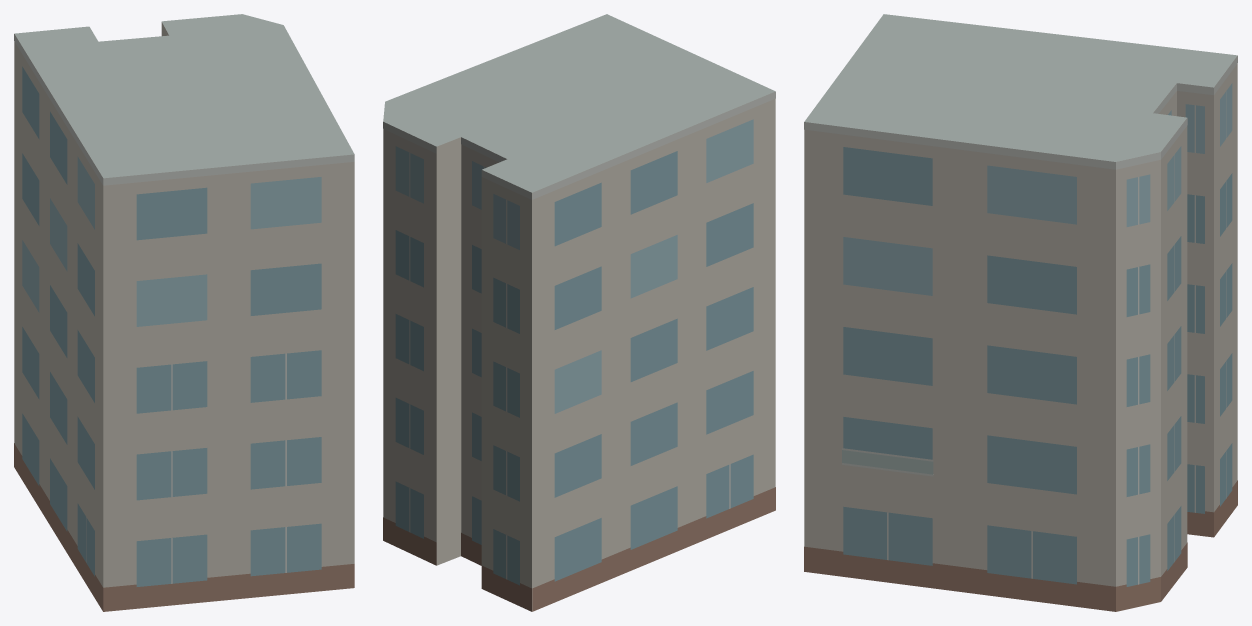
The model's file is survey-upis-32953901.glb.
The picture shows the model from 3 angles, left to right: view 1: azimuth 30°, elevation 25°; view 2: azimuth 150°, elevation 25°; view 3: azimuth 270°, elevation 25°; orthographic projection. The views are drawn at different scales.
Parts seen in each view (by area): view 1: survey-upis-32953901.tmp; view 2: survey-upis-32953901.tmp; view 3: survey-upis-32953901.tmp.
Part boxes in pixels (x1,y1,x2,y2): survey-upis-32953901.tmp: (14, 14, 354, 611); survey-upis-32953901.tmp: (383, 14, 775, 611); survey-upis-32953901.tmp: (804, 14, 1237, 611).
Bounding box in the file's own units: 10.1 × 14.3 × 12.5.
